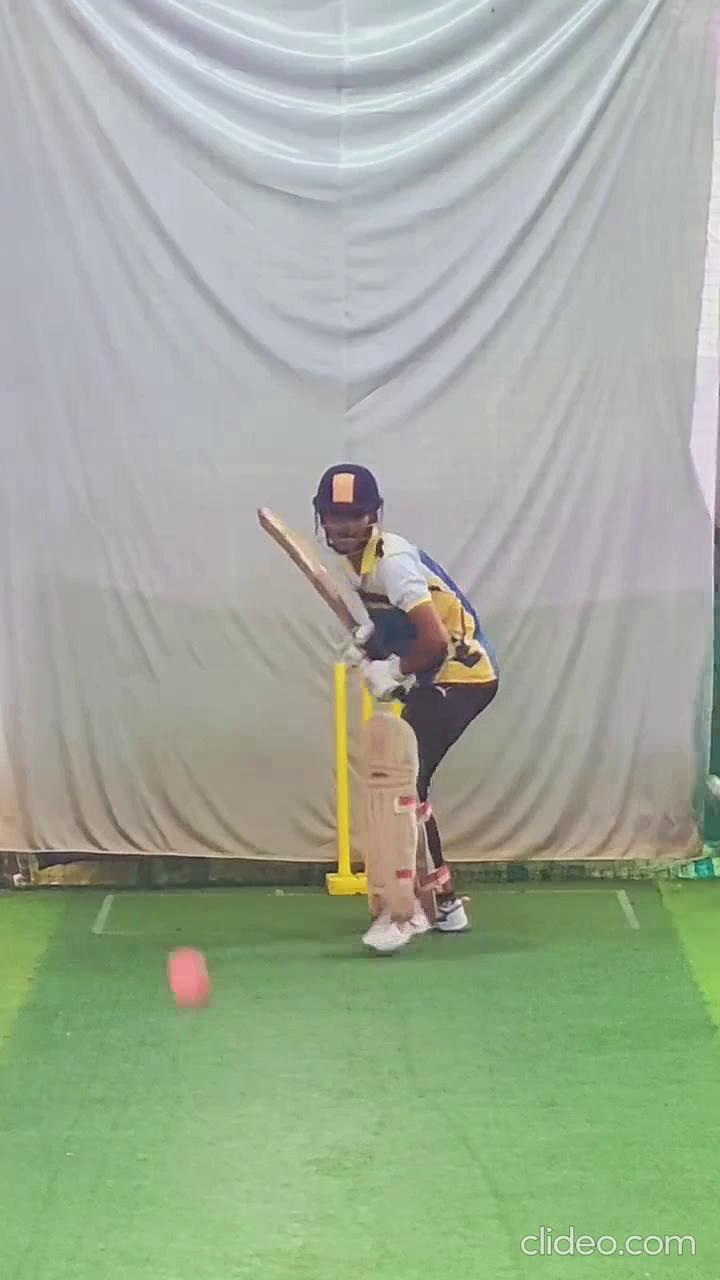bat: (250, 490, 372, 632)
